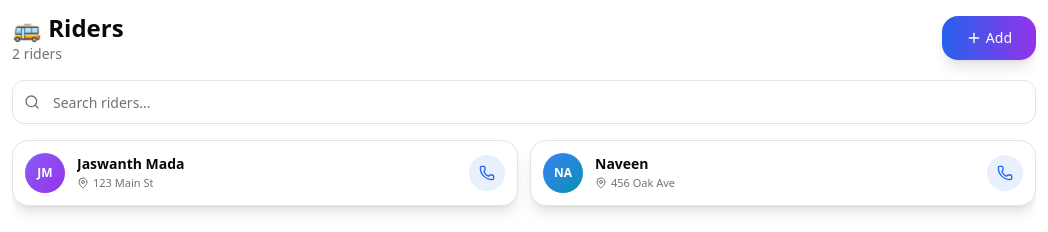
RiderList Component › filters riders by search term
expect the heading "Jaswanth Mada" is shown: met, box x1=77 y1=154 x2=185 y2=173
Type "Jaswanth" into the field with placeholder "Search riders...".
click(524, 102); type("Jaswanth")  # box x1=12 y1=80 x2=1036 y2=124
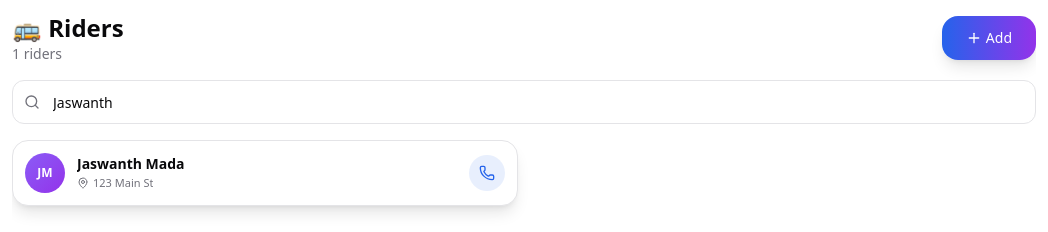
expect the heading "Jaswanth Mada" is shown: met, box x1=77 y1=154 x2=185 y2=173
expect the heading "Naveen" is gone: met
